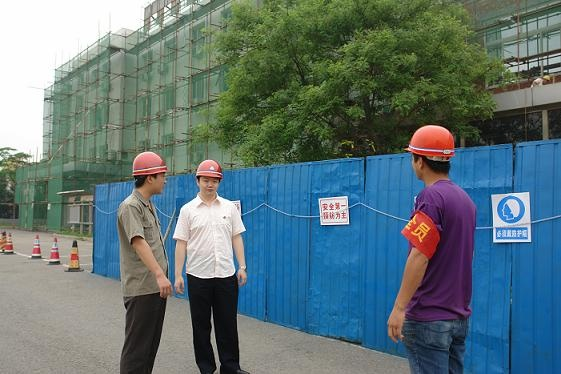red: (405, 120, 457, 187), (129, 148, 168, 199), (191, 157, 225, 201)
